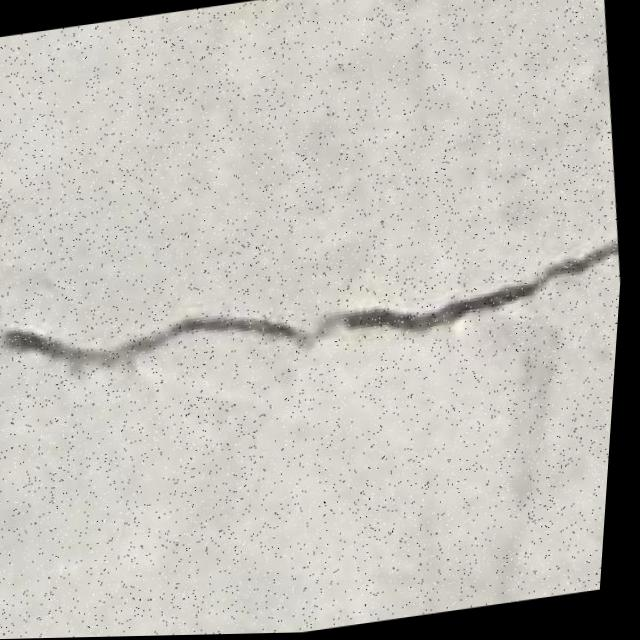Crack: (0, 190, 629, 429)
